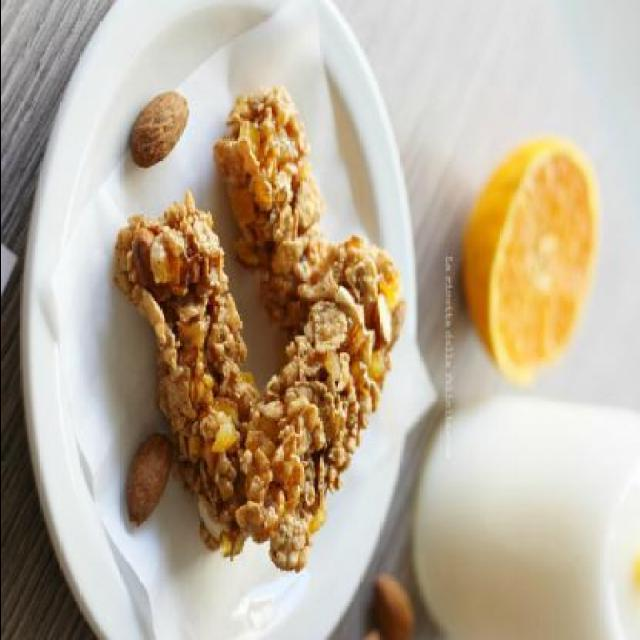Cereal bar packaged: (223, 237, 397, 572), (122, 210, 266, 568)
